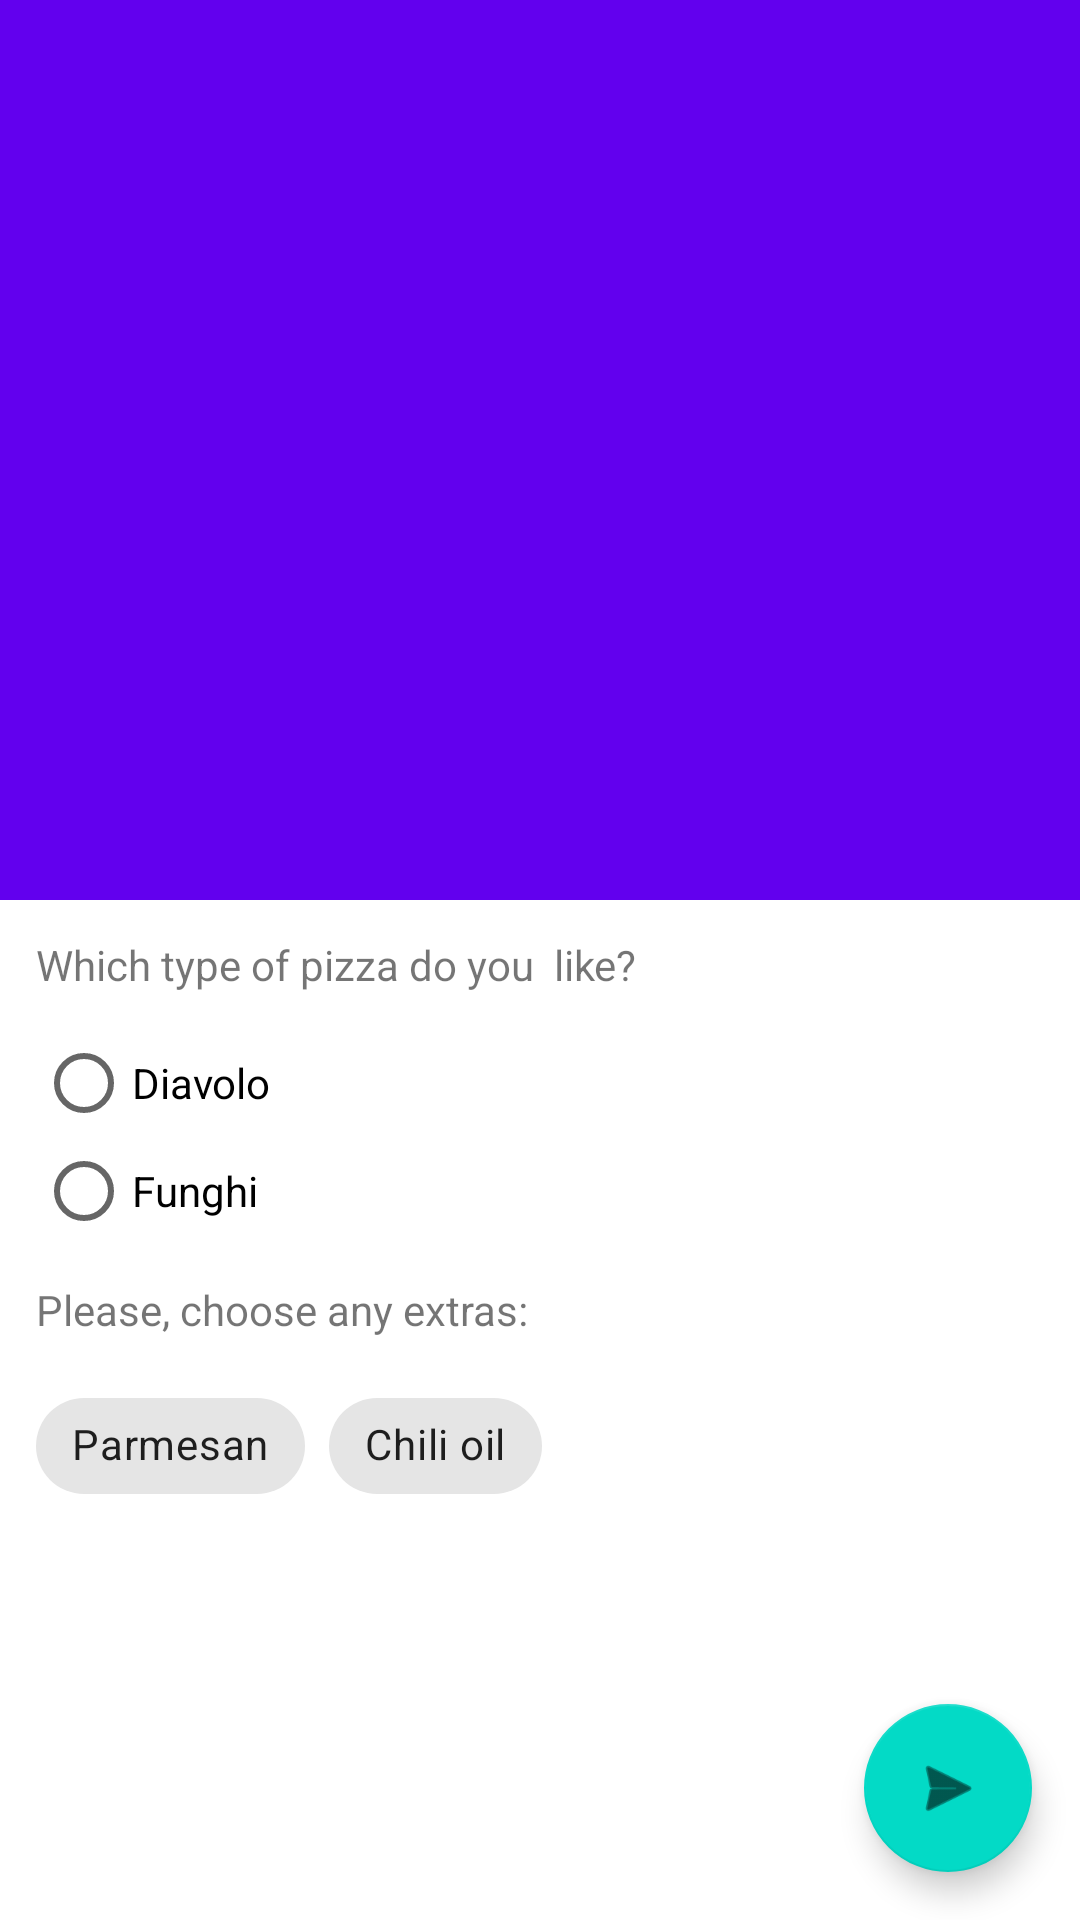

Where icons sit on this 1080*1920 app screen, as bbox=(x1, y1, x2, y2):
send: bbox=(864, 1704, 1032, 1872)
